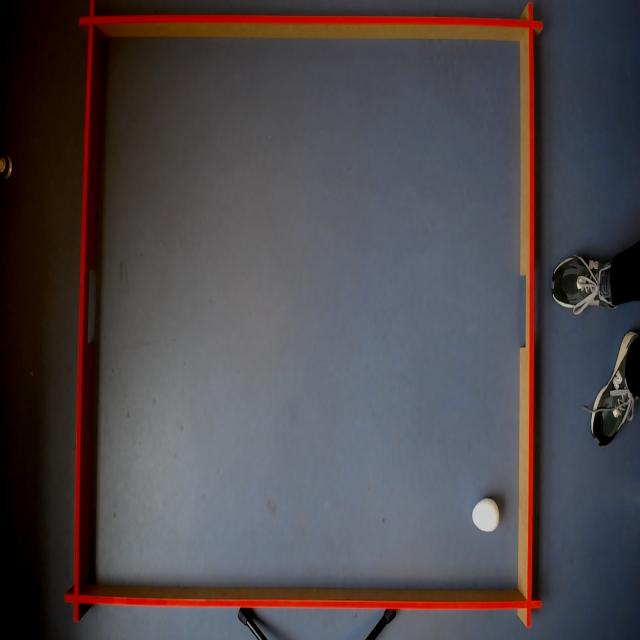egg: (470, 496, 500, 537)
